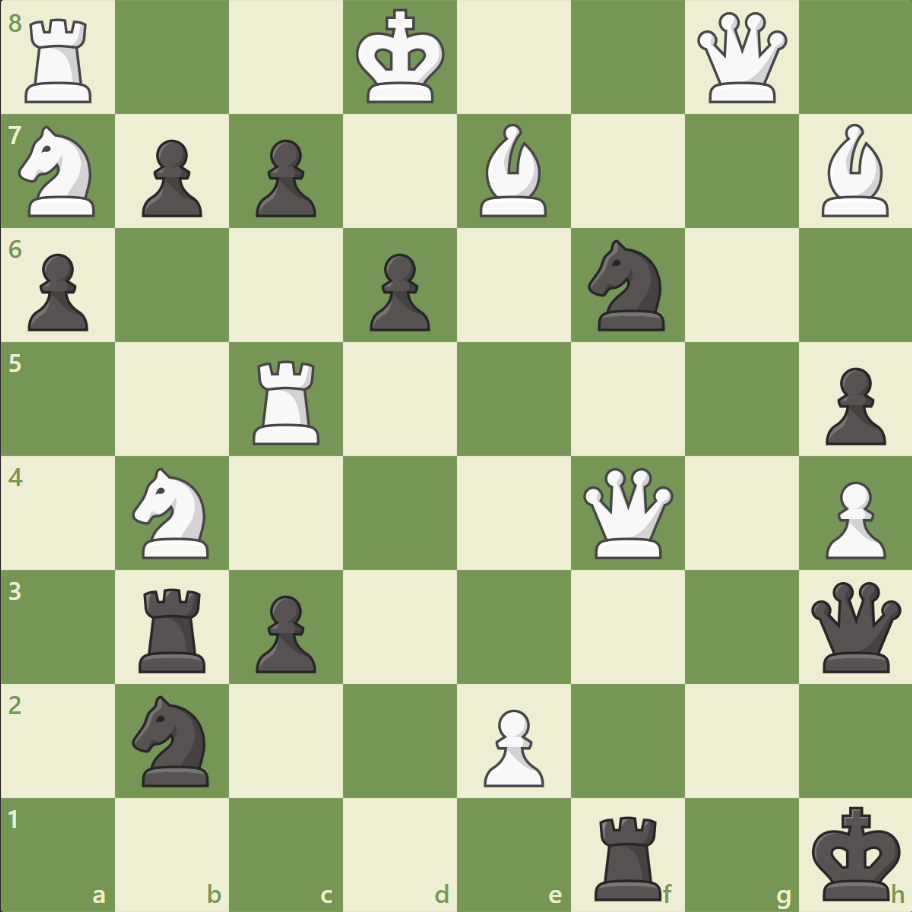B: (471, 120, 555, 222), (812, 120, 896, 222)
K: (351, 4, 451, 112)
N: (124, 461, 222, 564), (11, 121, 108, 223)
P: (474, 700, 549, 791), (815, 473, 889, 564)
Q: (691, 9, 790, 108), (578, 463, 677, 562)
R: (19, 12, 102, 109), (246, 352, 329, 449)
k: (806, 798, 906, 906)
n: (124, 688, 222, 791), (579, 234, 676, 337)
p: (133, 132, 208, 223), (247, 132, 322, 223), (20, 246, 95, 337), (247, 586, 322, 677), (361, 246, 435, 337), (815, 359, 889, 450)
q: (805, 576, 904, 676)
r: (587, 806, 670, 904), (133, 579, 215, 676)
